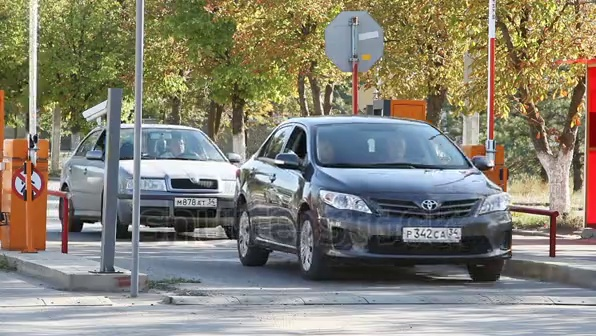licenseplate: (400, 219, 462, 241), (172, 192, 224, 214)
